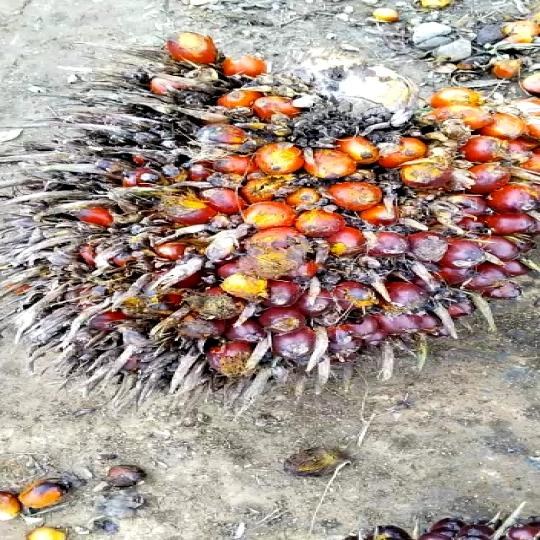masak: (0, 0, 540, 395)
